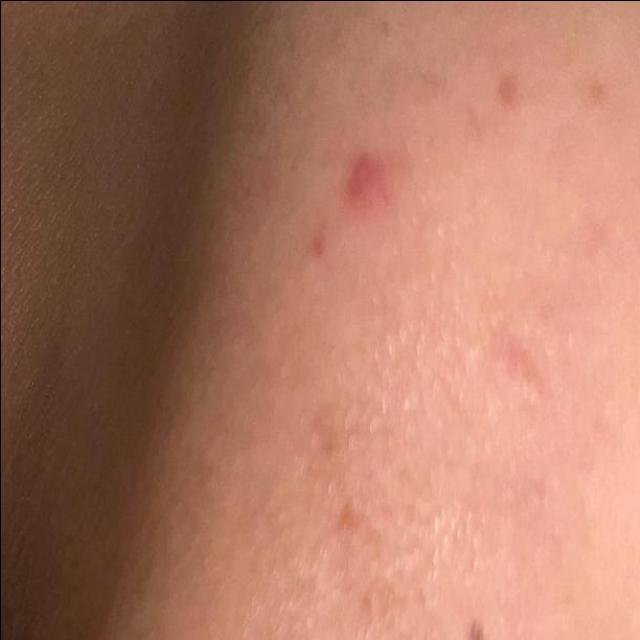papule: (295, 137, 410, 272)
